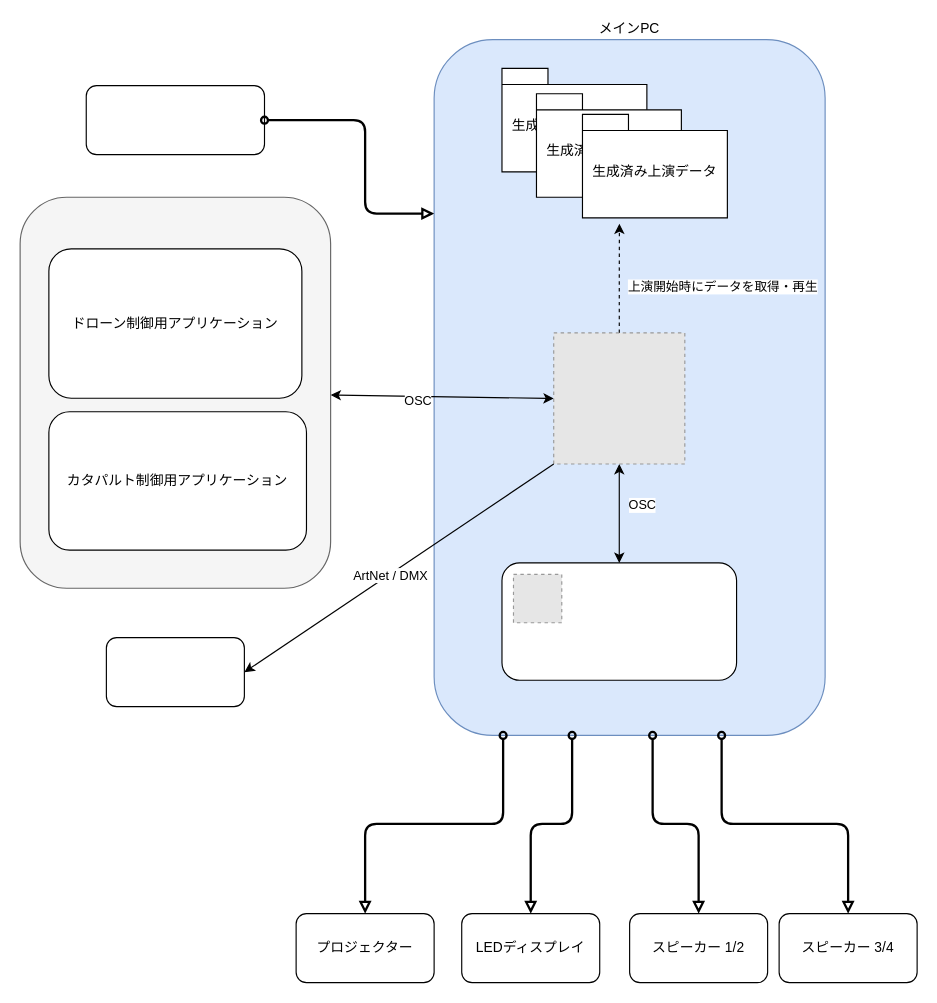
Some shapes in this 937 by 1003 pixel diagram are drawn without their labels. Grey dashed boxes stand in for pictures. Here are the shapes that lost their labels. From the top down, the box of each, then its label:
(85, 85, 264, 155): 映像キャプチャデバイス
(501, 562, 737, 680): SuperCollider サウンドトラック再生・ミックス
(105, 637, 244, 707): 照明卓
